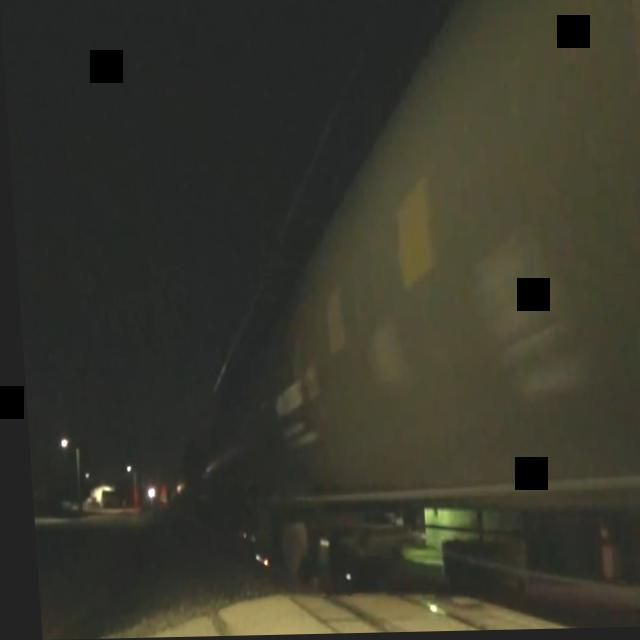tank: (208, 0, 640, 636)
